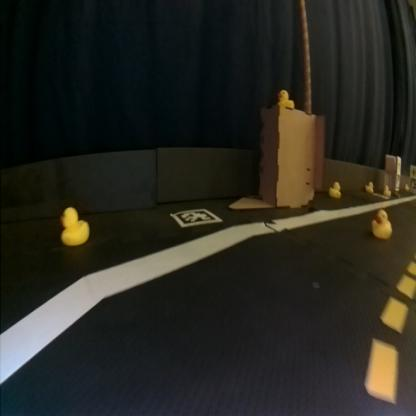Duckie: (60, 206, 90, 244), (374, 208, 392, 238), (278, 90, 296, 107), (330, 180, 341, 198), (366, 180, 375, 192), (384, 184, 392, 196)
QR code: (172, 207, 224, 225)
